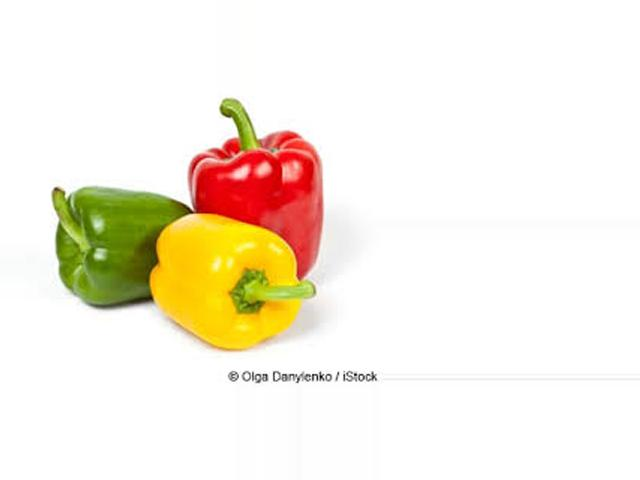bell_pepper: (185, 98, 335, 269)
